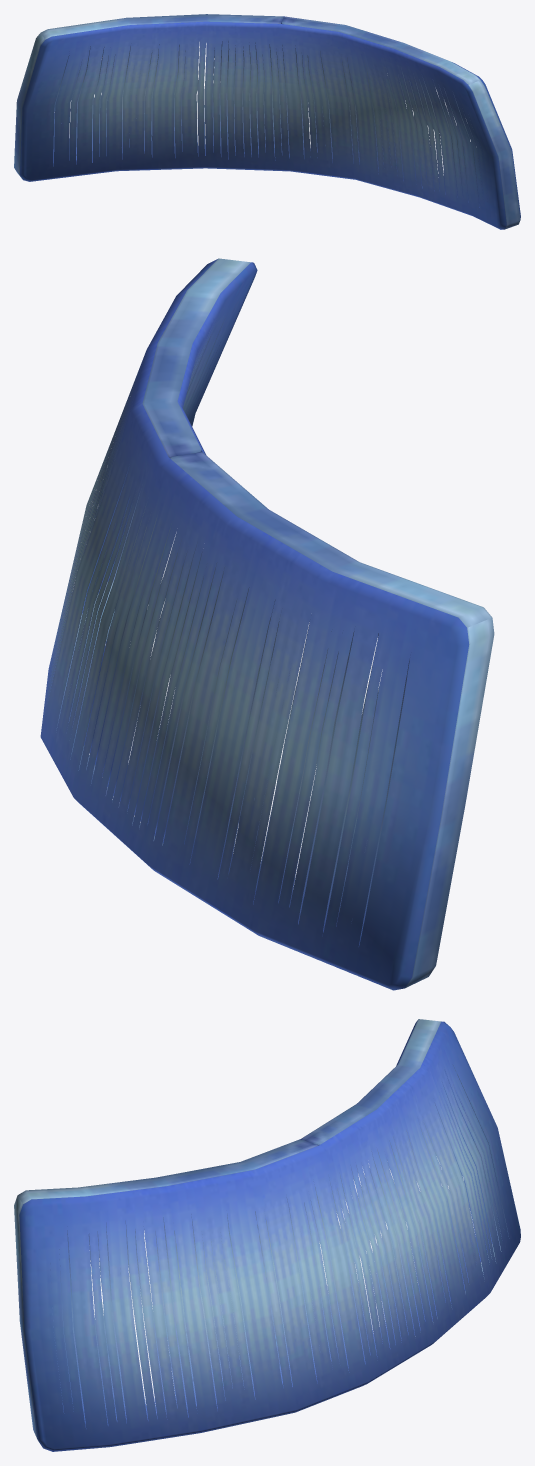
File: pref_sm_beach_winter_techobstacle03_glass01_lv2.fbx
3 renders of one model, top to bottom at view 1: azimuth 30°, elevation 25°; view 2: azimuth 150°, elevation 25°; view 3: azimuth 270°, elevation 25°, orthographic. The views are drawn at different scales.
Visible parts, largest first — view 1: pref_sm_beach_winter_techobstacle03_glass01_lv2; view 2: pref_sm_beach_winter_techobstacle03_glass01_lv2; view 3: pref_sm_beach_winter_techobstacle03_glass01_lv2.
Boxes of the visible parts, x1,y1,x2,y2 form: pref_sm_beach_winter_techobstacle03_glass01_lv2: (14,14,520,229); pref_sm_beach_winter_techobstacle03_glass01_lv2: (40,258,494,990); pref_sm_beach_winter_techobstacle03_glass01_lv2: (14,1019,520,1451).
Bounding box in the file's own units: 4.49 × 2.12 × 4.38.
1 material, 1 textured.
